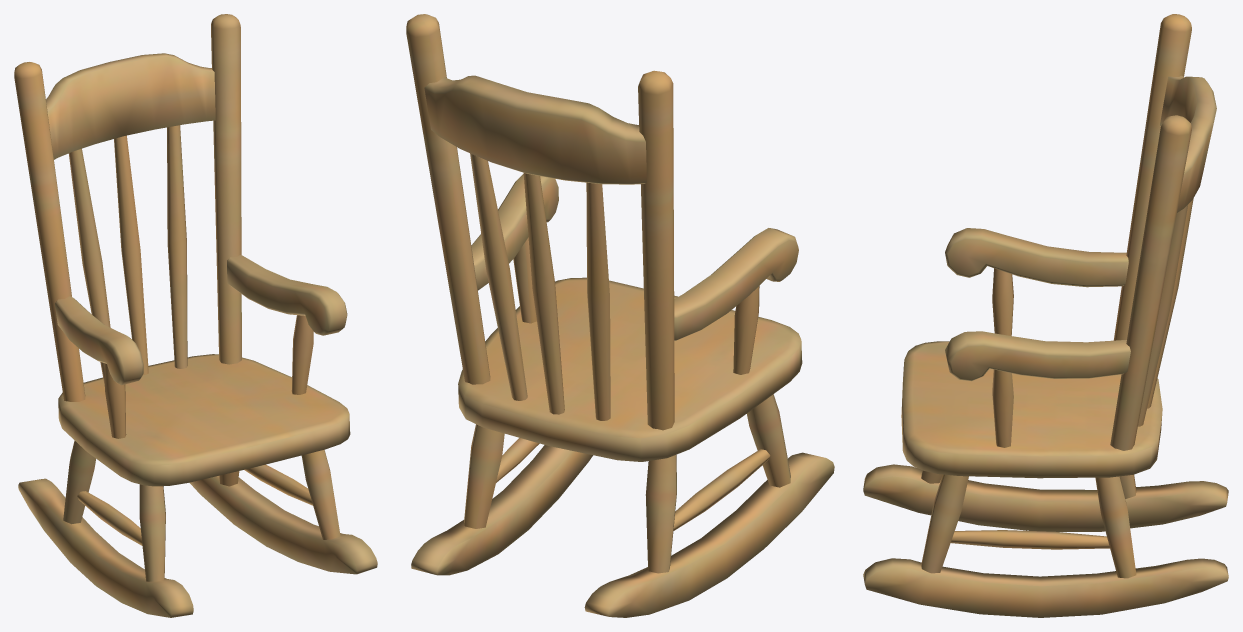
The picture shows the model from 3 angles, left to right: view 1: azimuth 30°, elevation 25°; view 2: azimuth 150°, elevation 25°; view 3: azimuth 270°, elevation 25°; orthographic projection. The views are drawn at different scales.
Size of the model in its own units: 7.39 by 14.78 by 9.74.
Materials: 1 (1 with a texture image).
